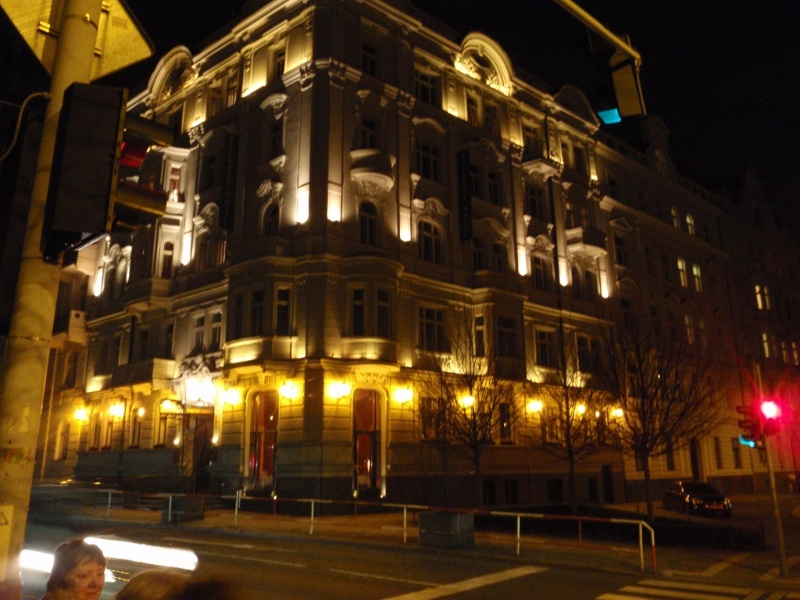red_light: (742, 381, 787, 444)
